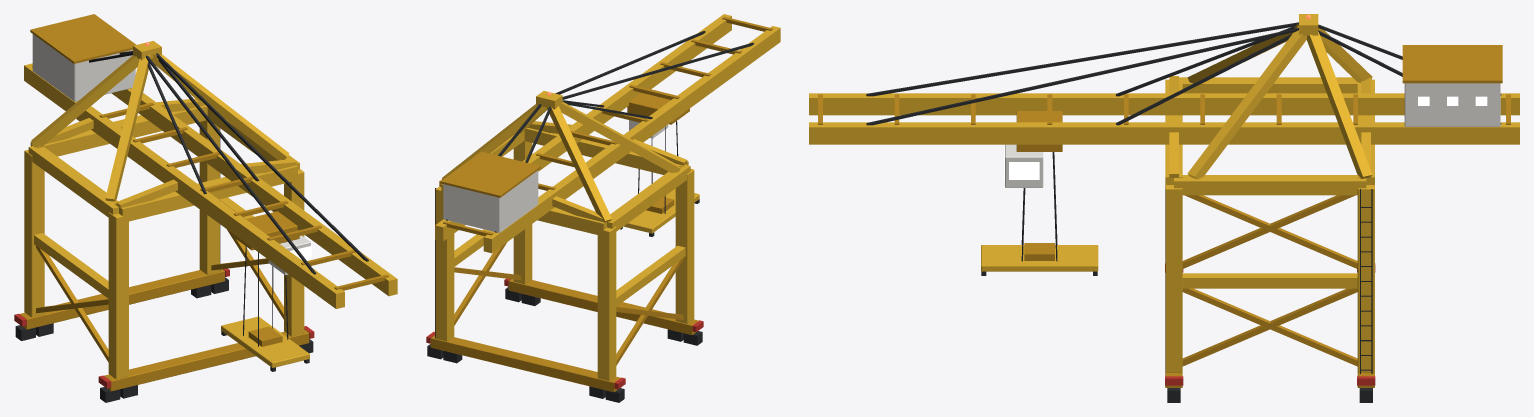
Rendered from harbor_crane_v01.glb.
3 renders of one model, left to right at view 1: azimuth 30°, elevation 25°; view 2: azimuth 150°, elevation 25°; view 3: azimuth 270°, elevation 25°, orthographic. The views are drawn at different scales.
Visible parts, largest first — view 1: crane; view 2: crane; view 3: crane.
Part boxes in pixels (<box>): crane: <box>14,14,397,402</box>; crane: <box>426,14,780,402</box>; crane: <box>809,14,1519,402</box>.
Bounding box in the file's own units: 14.2 × 19 × 37.
